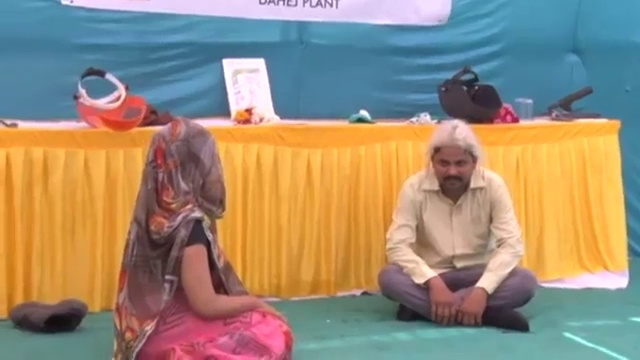helmet_off: (140, 119, 227, 220), (429, 121, 478, 194)
person: (111, 116, 295, 360), (375, 118, 540, 336)
